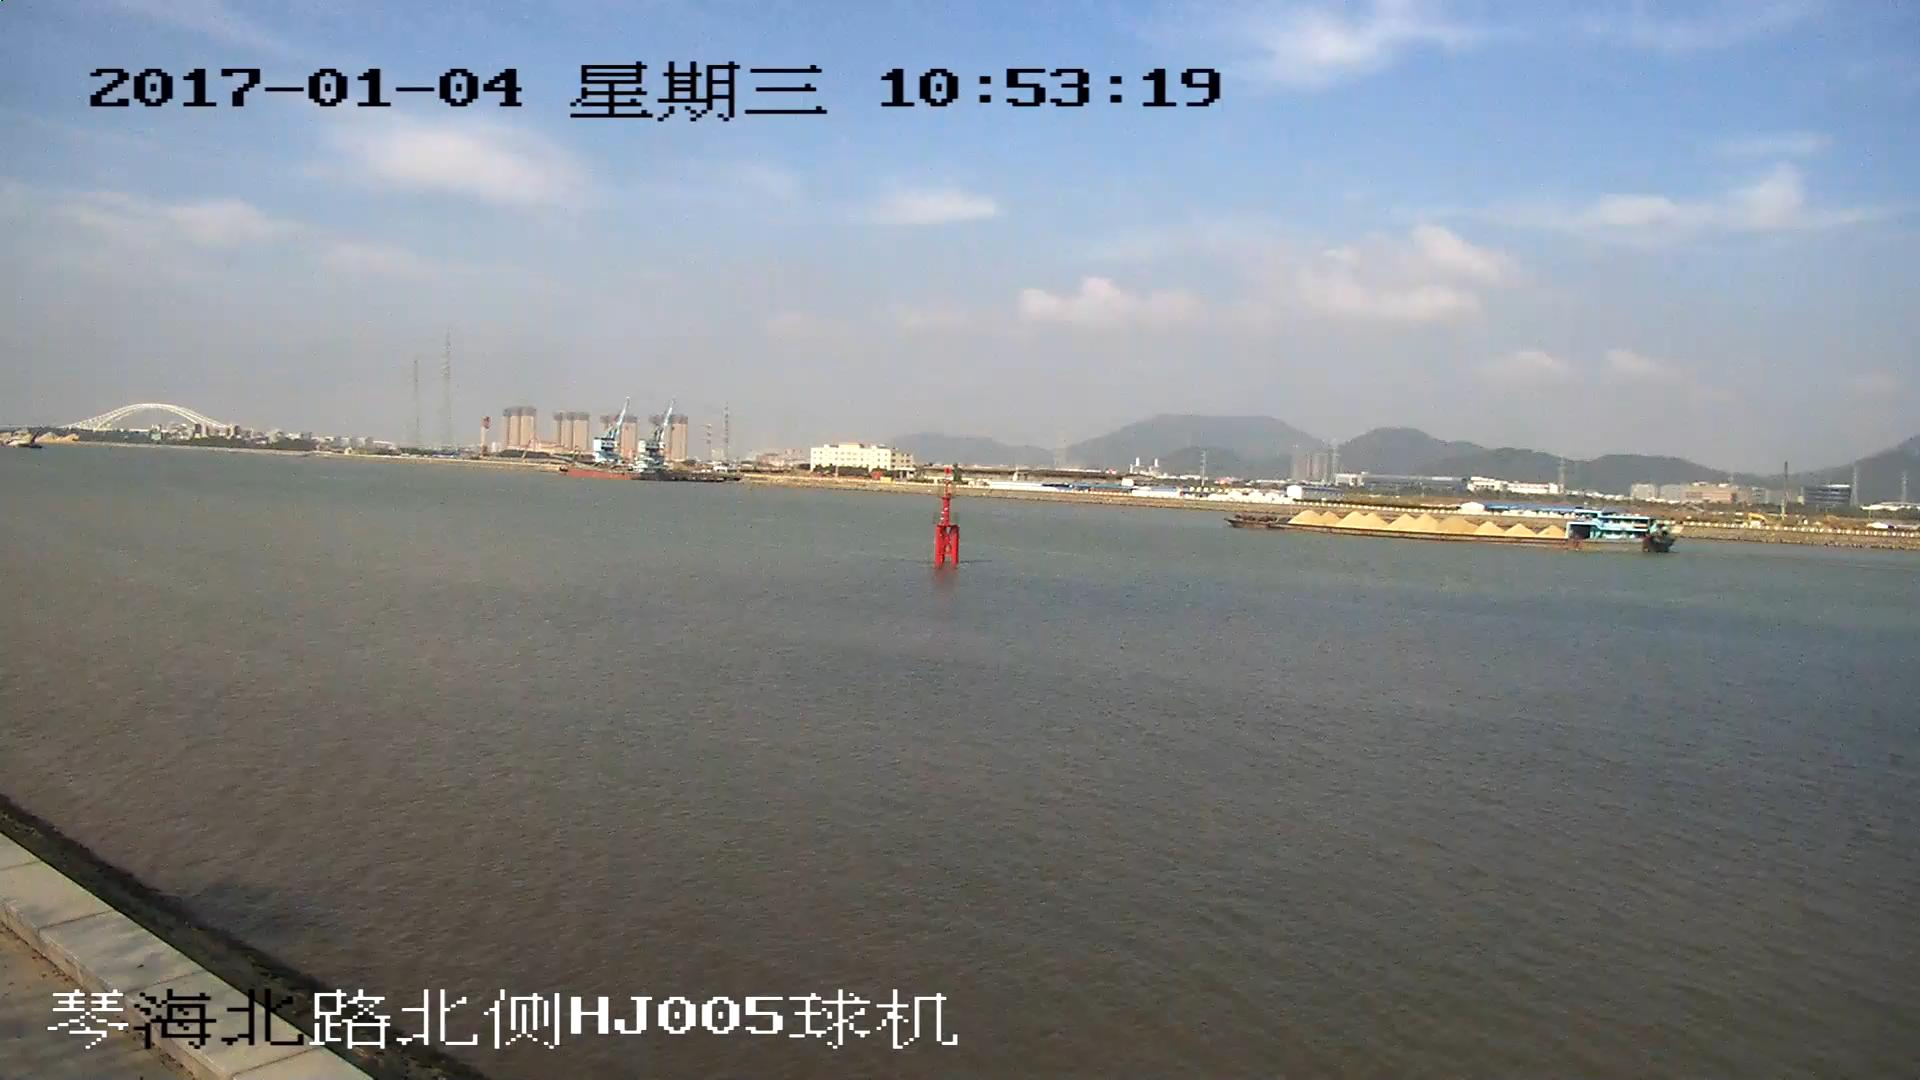ore carrier: (1226, 506, 1671, 555)
